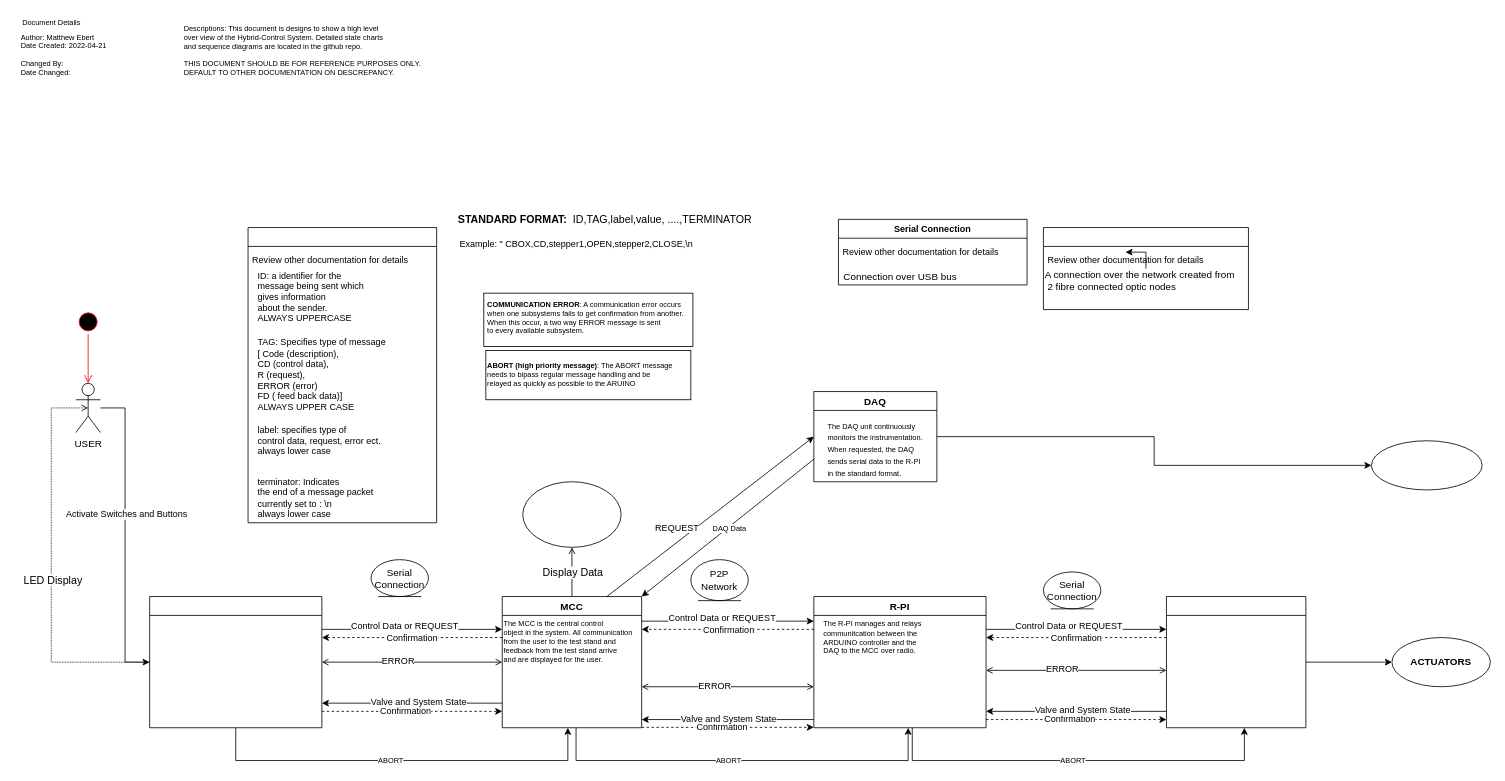
This 1505x781 diagram has some shape labels left out. Here are the shapes that lost their labels. From the top down, the box of each, then its label:
(1043, 227, 1248, 310): P2P
(247, 227, 437, 523): MESSAGE FORMAT
(1371, 440, 1482, 490): INSTRUMENTATION
(522, 481, 621, 547): Display and UI
(149, 596, 322, 728): Control Box
(1166, 596, 1306, 728): Arduino
